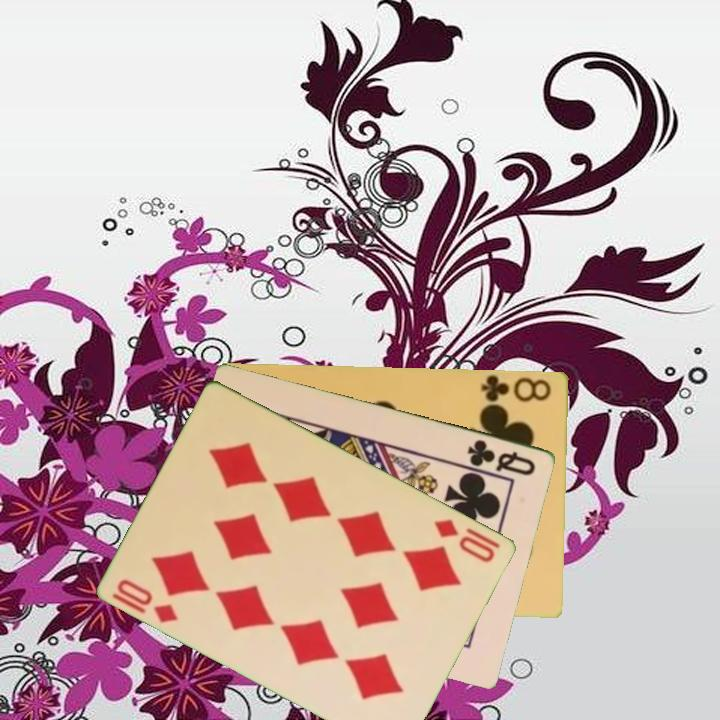10d: (109, 575, 182, 626), (431, 515, 499, 565)
8c: (478, 372, 554, 407)
Qc: (464, 435, 539, 478)
